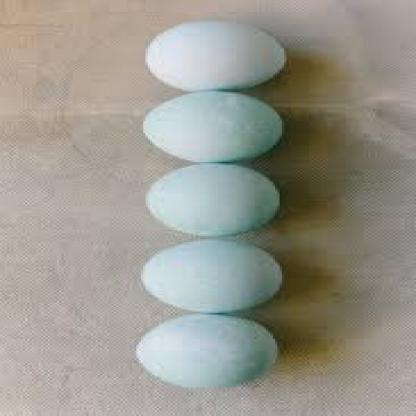egg: (140, 235, 288, 314), (136, 312, 284, 390), (140, 89, 286, 166), (144, 18, 289, 92), (145, 162, 285, 238)
